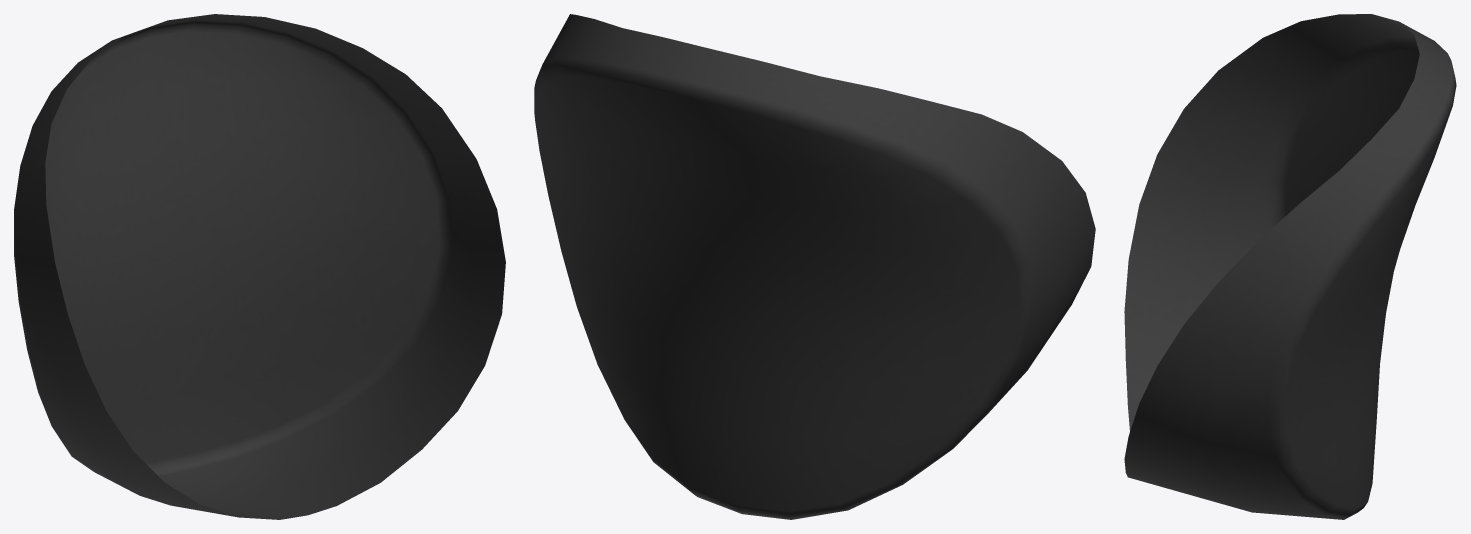
Rendered from oculus_quest_controller_left_trigger.obj.
The picture shows the model from 3 angles, left to right: view 1: azimuth 30°, elevation 25°; view 2: azimuth 150°, elevation 25°; view 3: azimuth 270°, elevation 25°; orthographic projection. The views are drawn at different scales.
Bounding box in the file's own units: 0.0261 × 0.0249 × 0.017.
